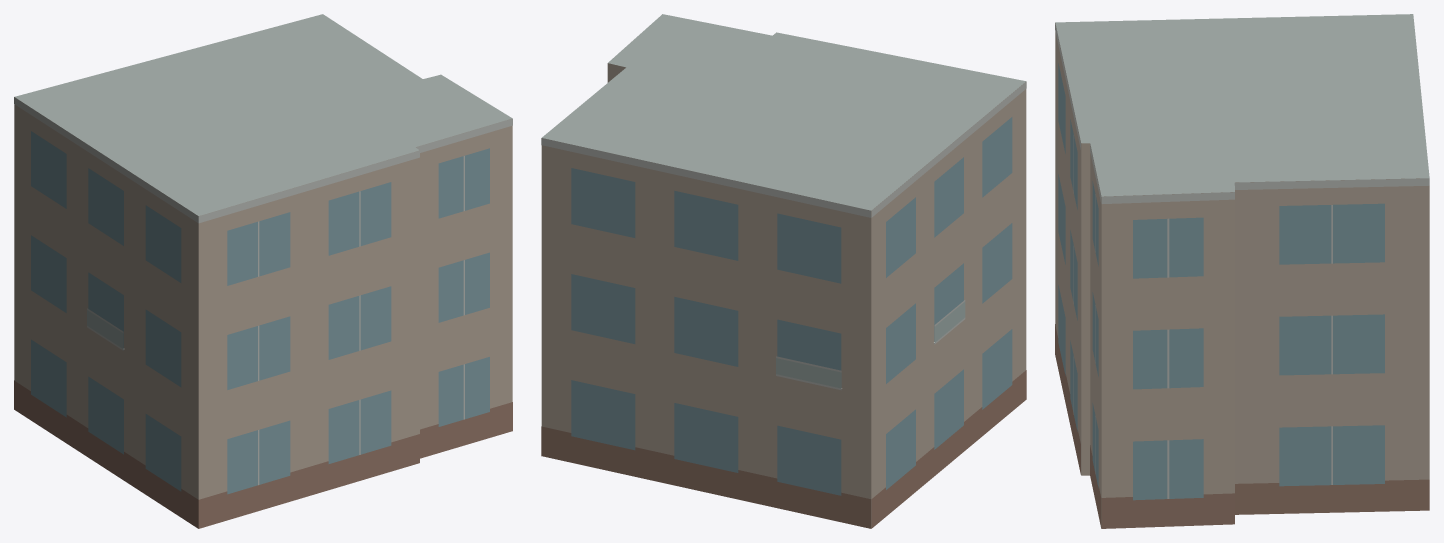
File: survey-upis-32666821.glb
3 renders of one model, left to right at view 1: azimuth 30°, elevation 25°; view 2: azimuth 150°, elevation 25°; view 3: azimuth 270°, elevation 25°, orthographic. The views are drawn at different scales.
Visible parts, largest first — view 1: survey-upis-32666821.tmp; view 2: survey-upis-32666821.tmp; view 3: survey-upis-32666821.tmp.
Part boxes in pixels (x1=…): survey-upis-32666821.tmp: x1=14, y1=14, x2=512, y2=528; survey-upis-32666821.tmp: x1=541, y1=14, x2=1026, y2=528; survey-upis-32666821.tmp: x1=1055, y1=14, x2=1429, y2=528.
Bounding box in the file's own units: 12.49 × 10.6 × 10.83.
